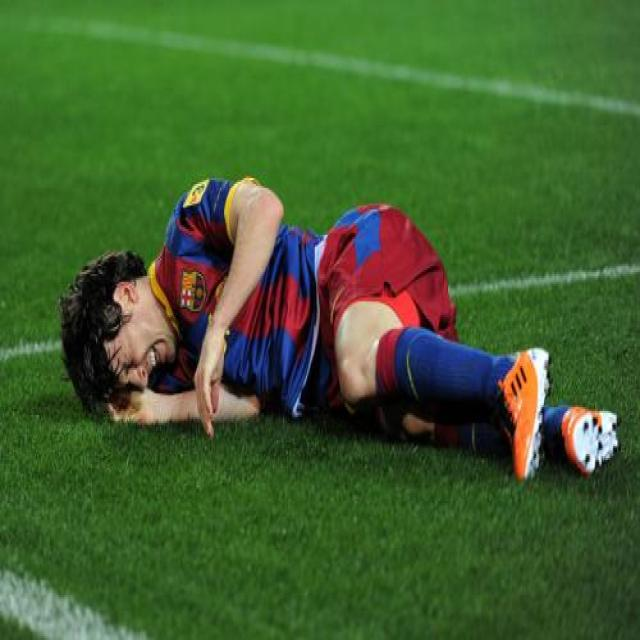down: (51, 164, 624, 493)
